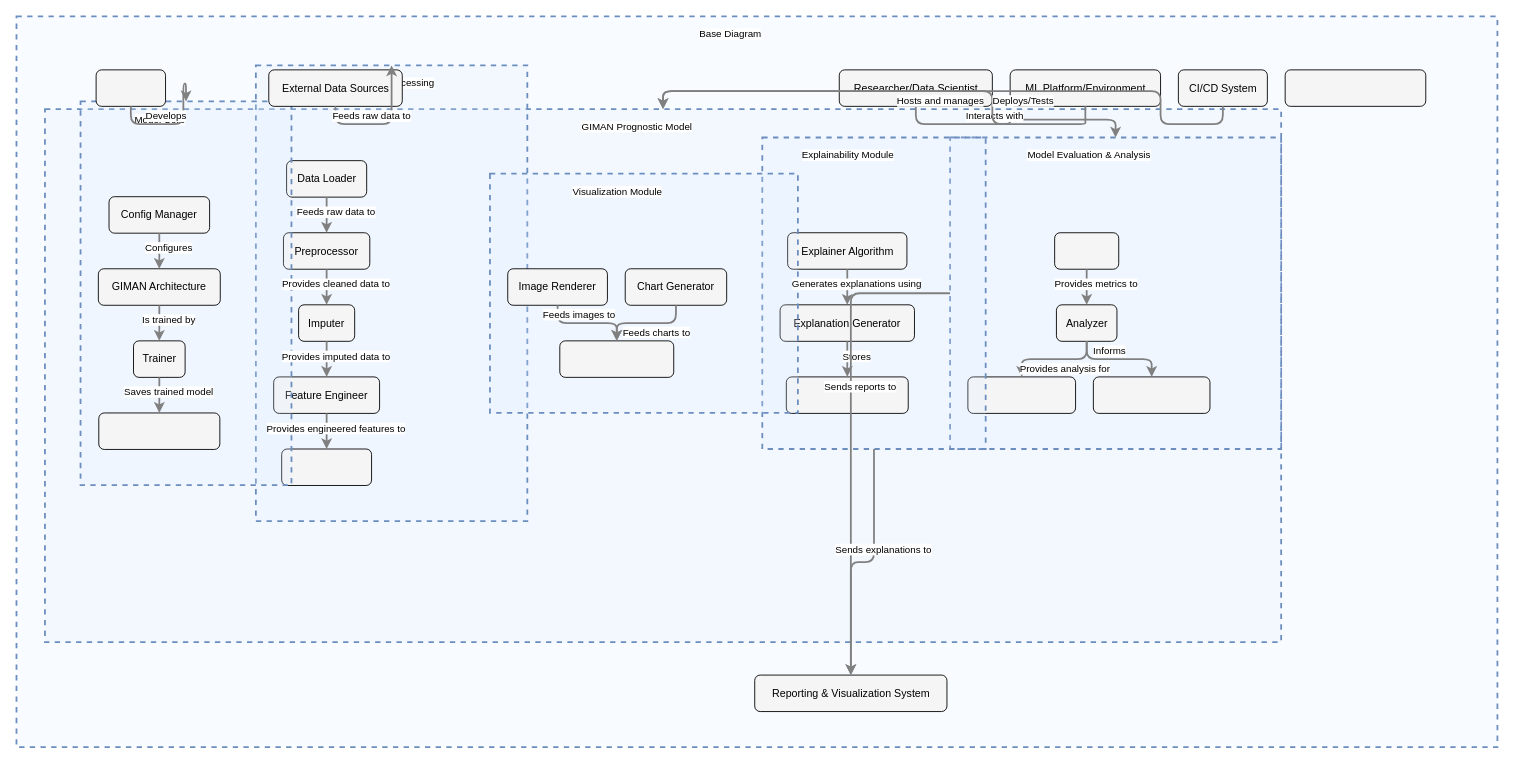
Some shapes in this 1513 by 763 pixel diagram are drawn without their labels. The shapes that lost their labels are listed below. From the top down, each one's box as (x1, y1, x2, y2) in pixels, then its label:
(95, 69, 166, 106): Developer
(1284, 69, 1426, 106): Version Control System
(1054, 232, 1119, 269): Evaluator
(559, 340, 674, 377): Dashboard Builder
(785, 376, 908, 413): Explanation Storage
(967, 376, 1076, 413): Report Generator
(1092, 376, 1210, 413): Research Analytics
(98, 412, 220, 449): Model Saver/Loader
(281, 448, 372, 485): Data Validator
